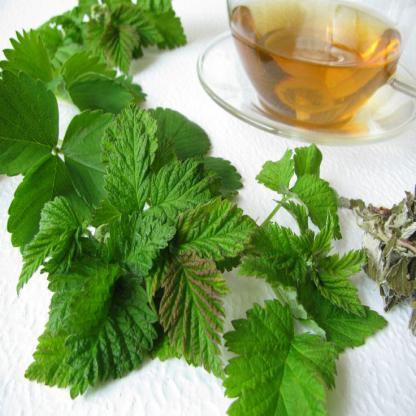Raspberry leaf: (0, 74, 58, 174), (60, 109, 116, 206), (2, 30, 55, 88), (68, 75, 140, 114)
